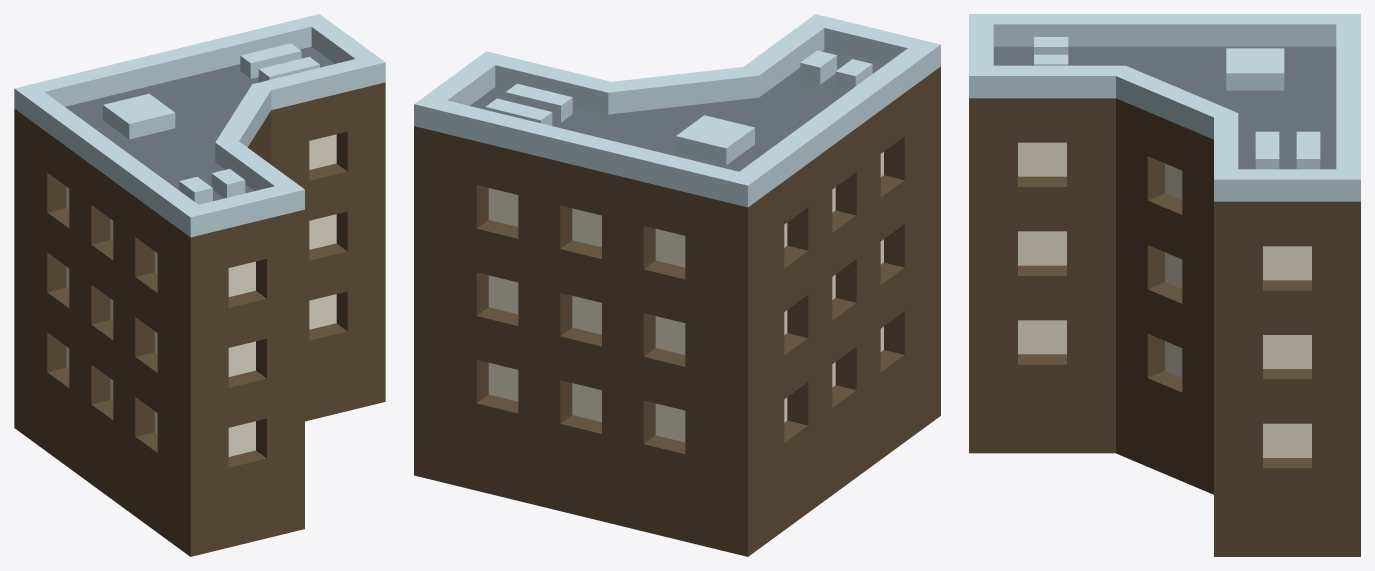
File: Building_8_Extra (Brown).obj
The picture shows the model from 3 angles, left to right: view 1: azimuth 30°, elevation 25°; view 2: azimuth 150°, elevation 25°; view 3: azimuth 270°, elevation 25°; orthographic projection. The views are drawn at different scales.
Visible parts, largest first — view 1: Building_8_Extra_(Brown); view 2: Building_8_Extra_(Brown); view 3: Building_8_Extra_(Brown).
Part boxes in pixels (x1=…): Building_8_Extra_(Brown): x1=14, y1=14, x2=385, y2=556; Building_8_Extra_(Brown): x1=414, y1=14, x2=940, y2=556; Building_8_Extra_(Brown): x1=969, y1=14, x2=1360, y2=556.
Size of the model in its own units: 1.6 by 1.7 by 1.6.
